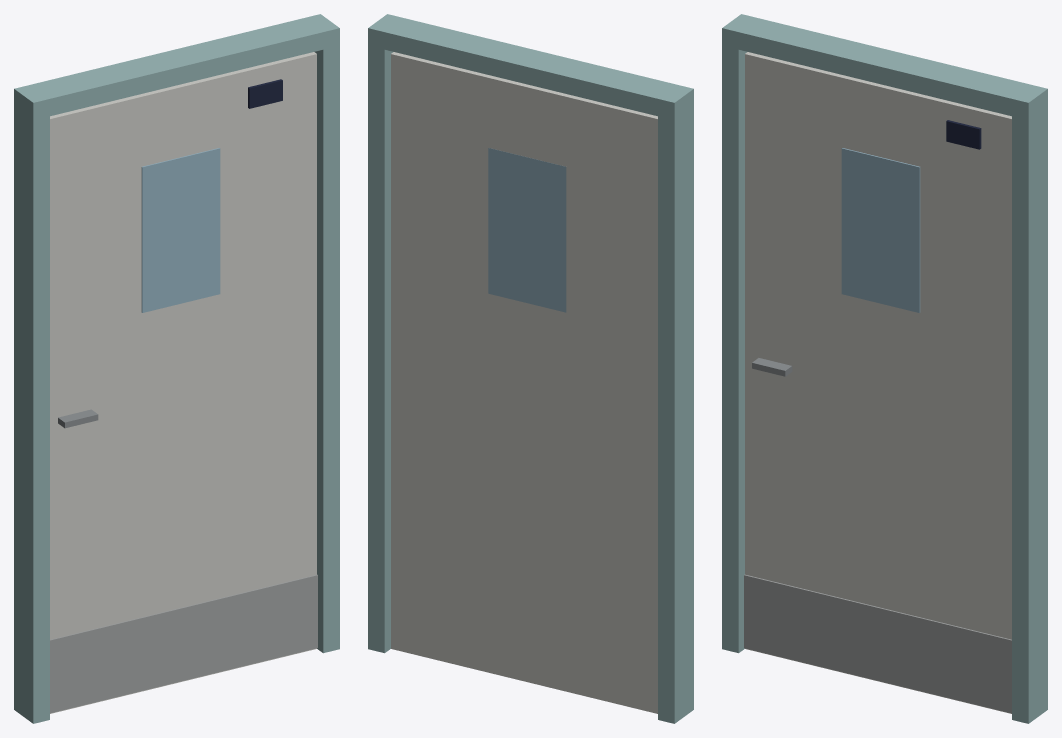
File: Hospital_door.obj
3 views of the same model, side by side, from view 1: azimuth 30°, elevation 25°; view 2: azimuth 150°, elevation 25°; view 3: azimuth 330°, elevation 25° (orthographic).
Parts seen in each view (by area): view 1: Hospital_door; view 2: Hospital_door; view 3: Hospital_door.
Boxes of the visible parts, left/top/right/bottom form: Hospital_door: left=14, top=14, right=339, bottom=723; Hospital_door: left=368, top=14, right=693, bottom=723; Hospital_door: left=722, top=14, right=1047, bottom=723.
Bounding box in the file's own units: 1.1 × 2.13 × 0.125.
